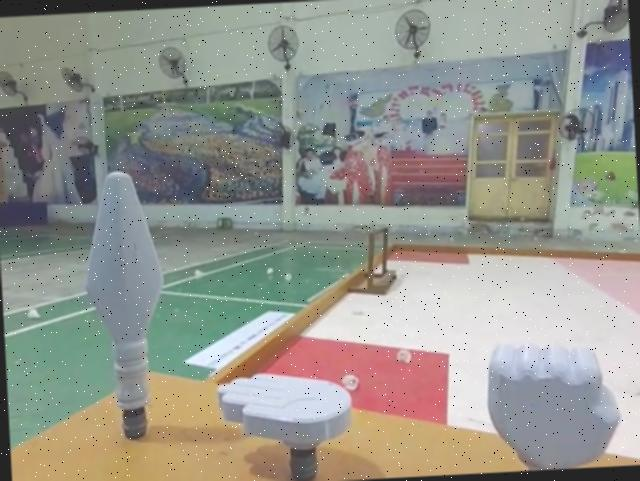Fist: (482, 307, 618, 472)
Hand: (214, 360, 353, 481)
Sph: (73, 171, 173, 452), (81, 169, 180, 449)
